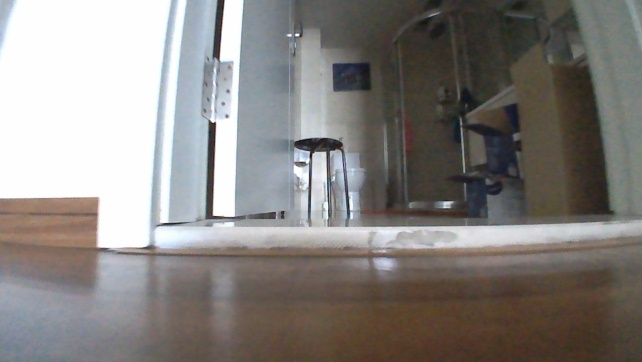door_anno: (155, 0, 306, 224)
toilet: (331, 150, 366, 215)
